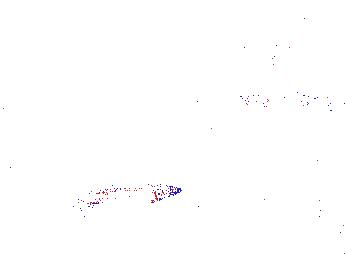glassfish: (237, 86, 346, 122), (70, 180, 183, 210)
redtail glassfish: (240, 15, 308, 63)
